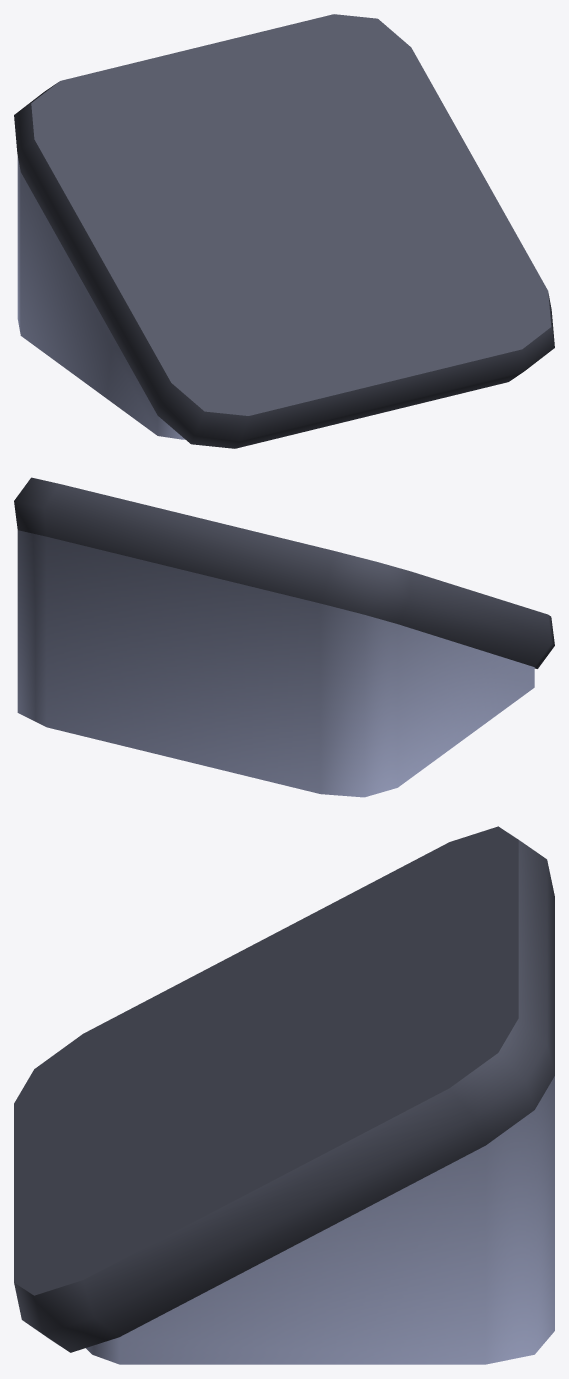
The model's file is block-snow-large-slope-steep.glb.
3 renders of one model, top to bottom at view 1: azimuth 30°, elevation 25°; view 2: azimuth 150°, elevation 25°; view 3: azimuth 270°, elevation 25°, orthographic. The views are drawn at different scales.
Parts seen in each view (by area): view 1: block-snow-large-slope-steep; view 2: block-snow-large-slope-steep; view 3: block-snow-large-slope-steep.
Part boxes in pixels (box(x1,y1,x2,y2)): block-snow-large-slope-steep: box(14, 14, 554, 448); block-snow-large-slope-steep: box(14, 477, 554, 797); block-snow-large-slope-steep: box(14, 826, 554, 1364).
Size of the model in its own units: 2.08 by 1.22 by 1.86.
